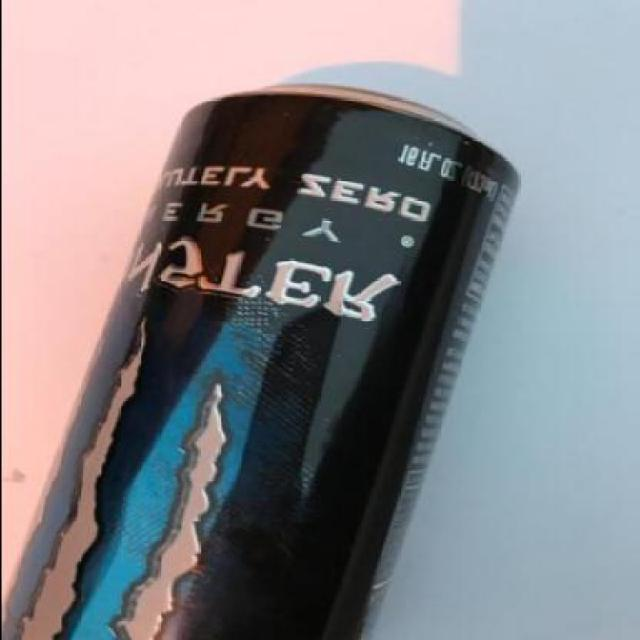METAL: (1, 81, 517, 638)
